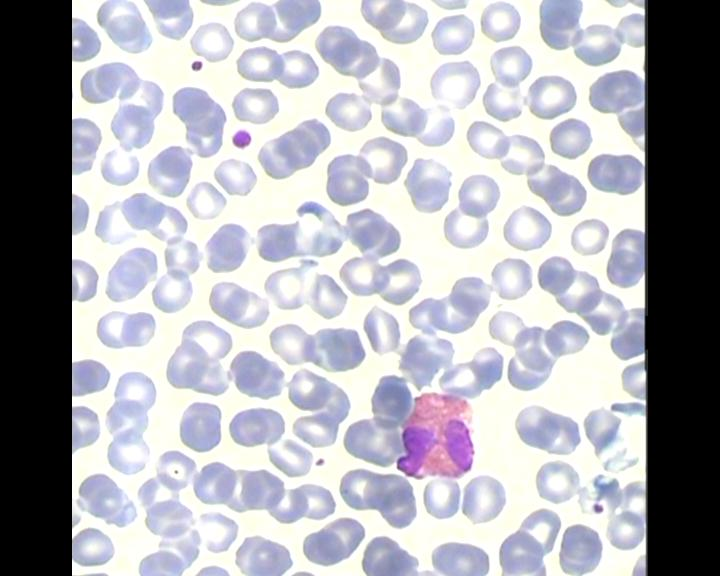eosi: (391, 385, 479, 479)
